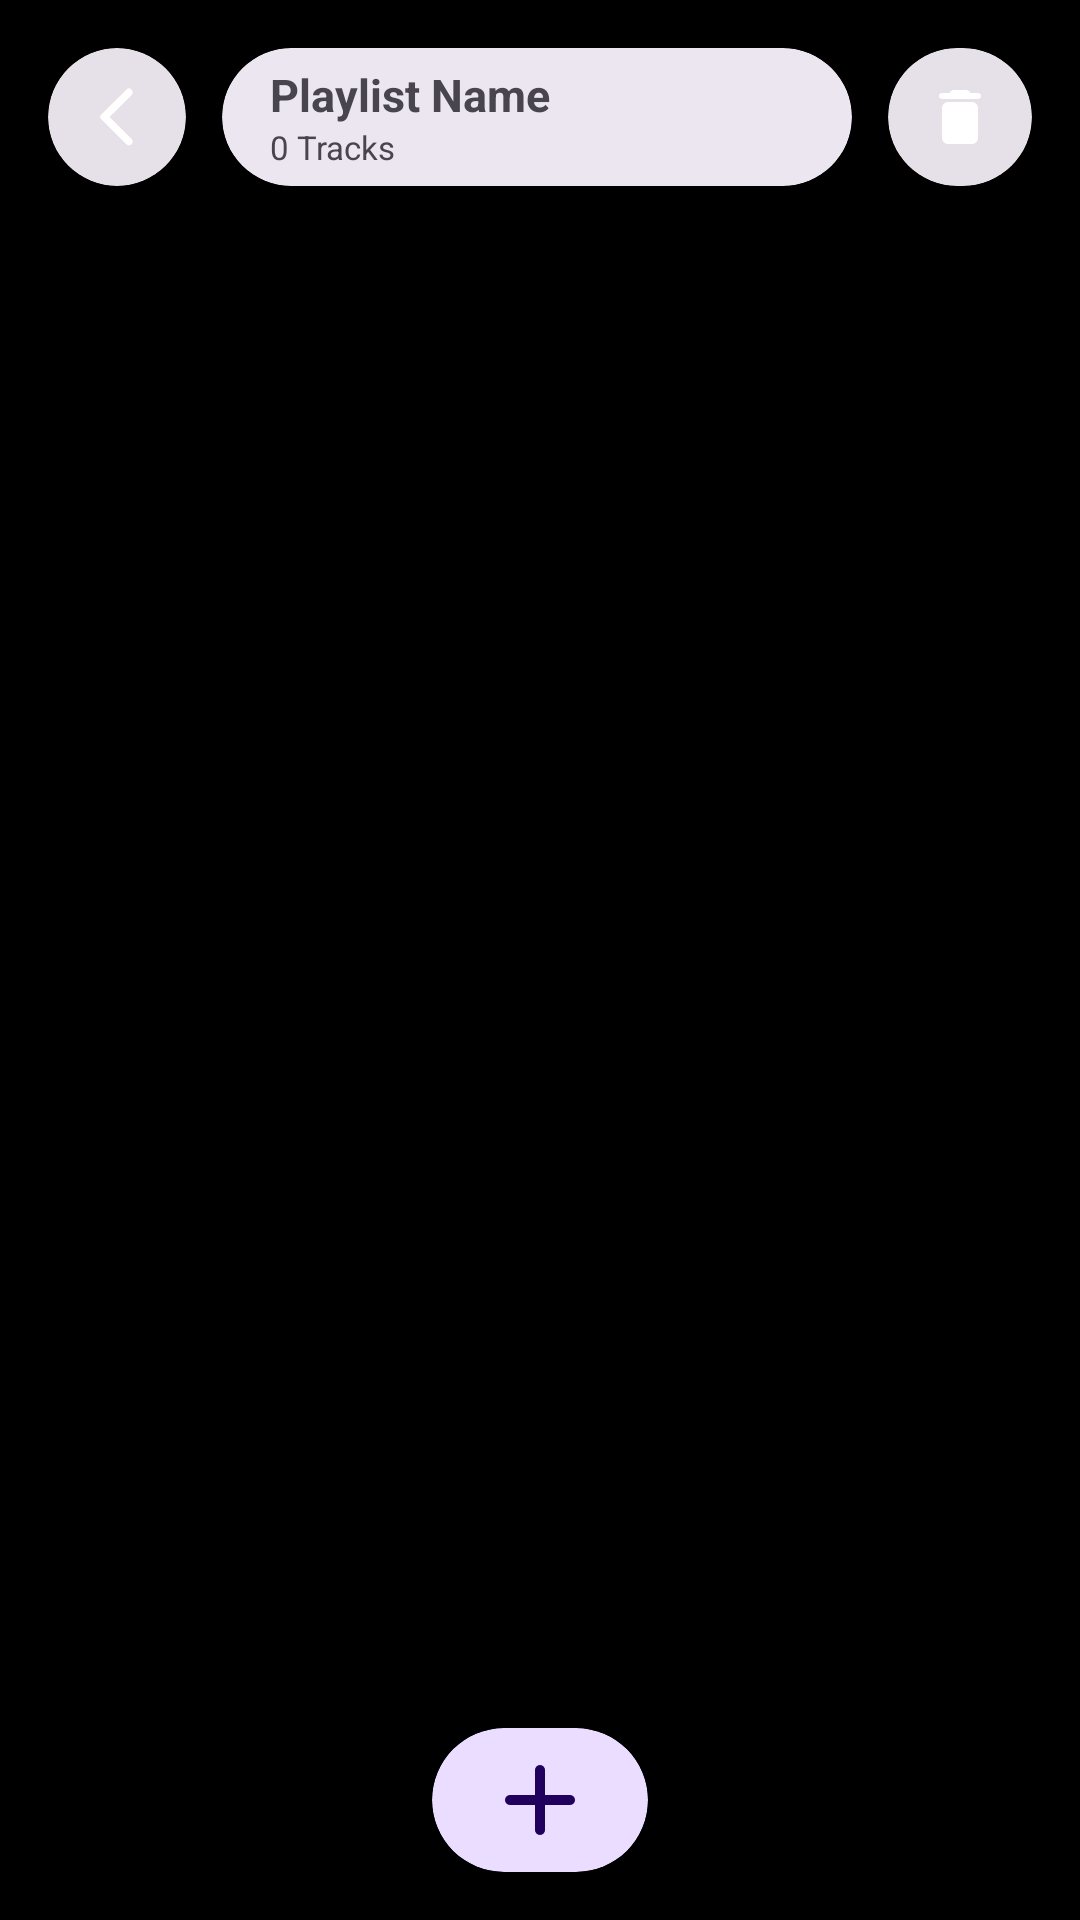

Where to tap for icons on this 1080×1920 app screen, as [x,y]:
add: [540,1800]
arrow: [117,117]
